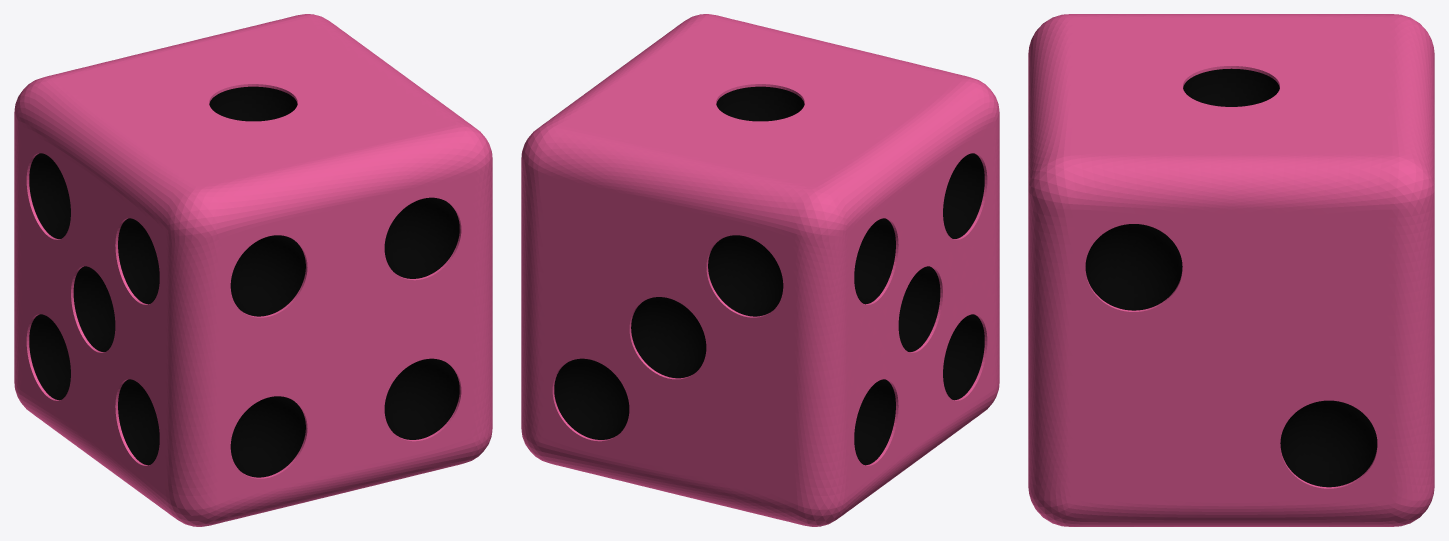
Rendered from _ice2.fbx.
The picture shows the model from 3 angles, left to right: view 1: azimuth 30°, elevation 25°; view 2: azimuth 150°, elevation 25°; view 3: azimuth 270°, elevation 25°; orthographic projection. The views are drawn at different scales.
Visible parts, largest first — view 1: Icosphere; view 2: Icosphere; view 3: Icosphere.
Part boxes in pixels (bbox=[...]): Icosphere: bbox=[14, 14, 492, 526]; Icosphere: bbox=[521, 14, 999, 526]; Icosphere: bbox=[1028, 14, 1434, 526].
Bounding box in the file's own units: 250 × 250 × 250.
